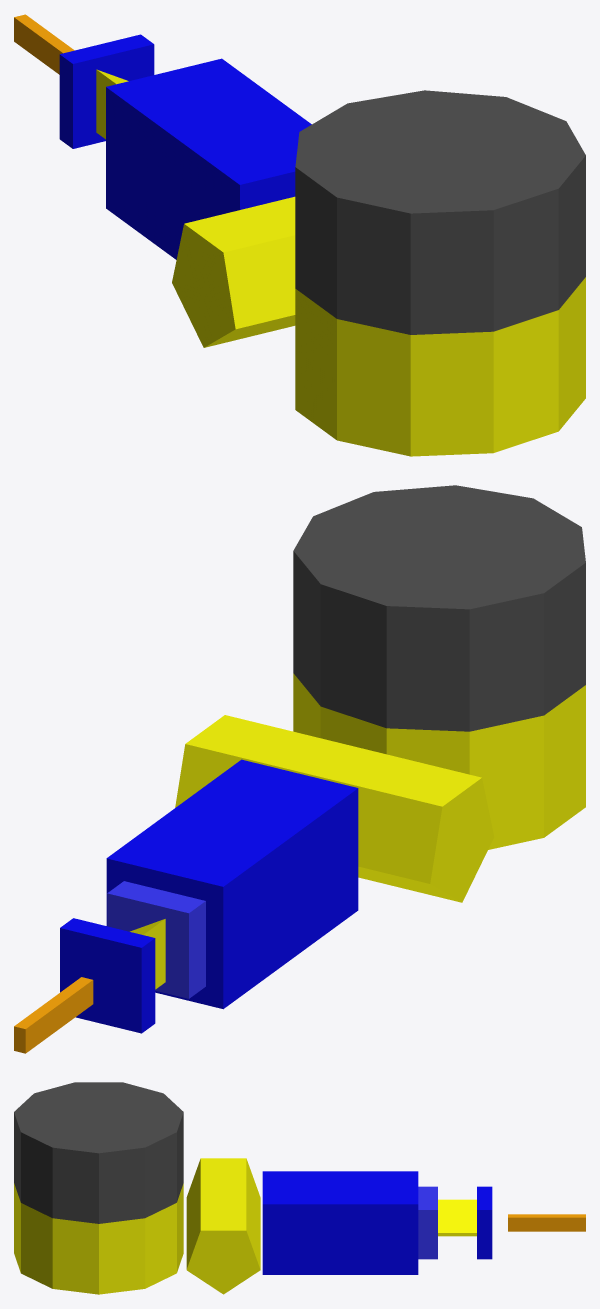
Rendered from kevin.dae.
3 renders of one model, top to bottom at view 1: azimuth 30°, elevation 25°; view 2: azimuth 150°, elevation 25°; view 3: azimuth 270°, elevation 25°, orthographic. The views are drawn at different scales.
Parts seen in each view (by area): view 1: base_link, base_motor, extend_link1, lift_motor, wrist_plate, finger1, wrist_motor; view 2: base_link, extend_link1, lift_motor, base_motor, wrist_plate, extend_link2, finger1, wrist_motor; view 3: base_link, extend_link1, base_motor, lift_motor, wrist_motor, extend_link2, finger1, wrist_plate.
Boxes of the visible parts, x1=… form: base_link: x1=295, y1=90, x2=585, y2=334; base_motor: x1=295, y1=277, x2=585, y2=456; extend_link1: x1=106, y1=58, x2=311, y2=259; lift_motor: x1=172, y1=196, x2=295, y2=347; wrist_plate: x1=59, y1=34, x2=154, y2=148; finger1: x1=14, y1=14, x2=74, y2=74; wrist_motor: x1=96, y1=69, x2=128, y2=139; base_link: x1=293, y1=485, x2=585, y2=731; extend_link1: x1=106, y1=759, x2=358, y2=1009; lift_motor: x1=175, y1=715, x2=494, y2=902; base_motor: x1=293, y1=673, x2=585, y2=849; wrist_plate: x1=60, y1=918, x2=155, y2=1033; extend_link2: x1=107, y1=881, x2=205, y2=998; finger1: x1=14, y1=977, x2=93, y2=1053; wrist_motor: x1=130, y1=919, x2=165, y2=989; base_link: x1=14, y1=1082, x2=183, y2=1223; extend_link1: x1=262, y1=1171, x2=418, y2=1274; base_motor: x1=14, y1=1183, x2=183, y2=1294; lift_motor: x1=186, y1=1158, x2=260, y2=1294; wrist_motor: x1=438, y1=1199, x2=476, y2=1236; extend_link2: x1=418, y1=1186, x2=437, y2=1259; finger1: x1=508, y1=1214, x2=585, y2=1231; wrist_plate: x1=477, y1=1186, x2=492, y2=1259.
Size of what is drawn, in the model's own units: 0.22 by 0.7339 by 0.2.
